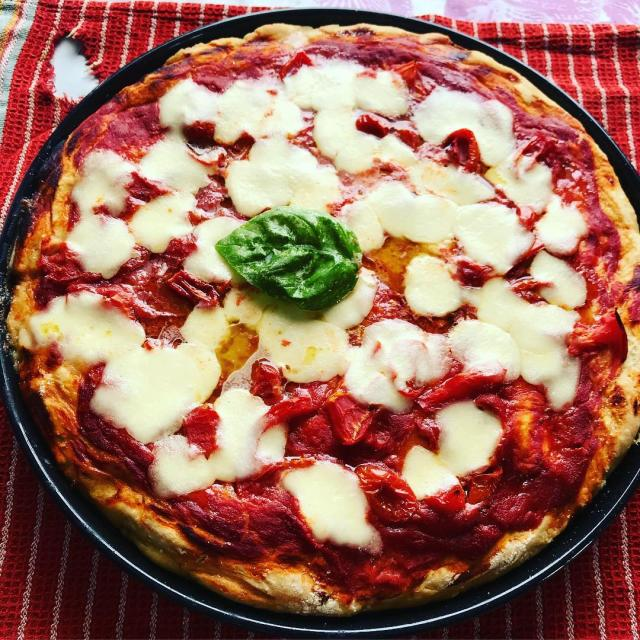basil: (212, 206, 366, 314)
pizza: (4, 20, 640, 618)
tomatoes: (355, 462, 418, 526), (320, 388, 375, 447), (564, 314, 622, 350), (166, 270, 218, 308), (184, 406, 222, 455), (441, 128, 478, 174), (249, 362, 285, 406), (279, 50, 315, 84), (424, 483, 465, 508), (386, 62, 418, 88), (355, 113, 388, 138), (395, 128, 421, 151)
